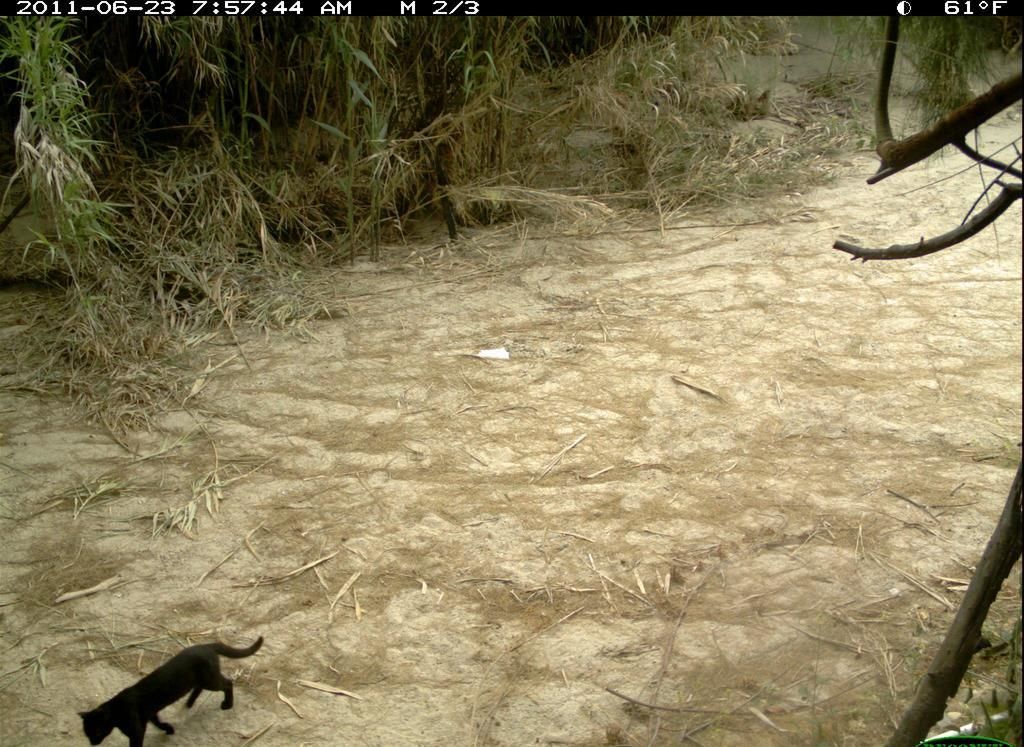cat: (75, 630, 277, 747)
